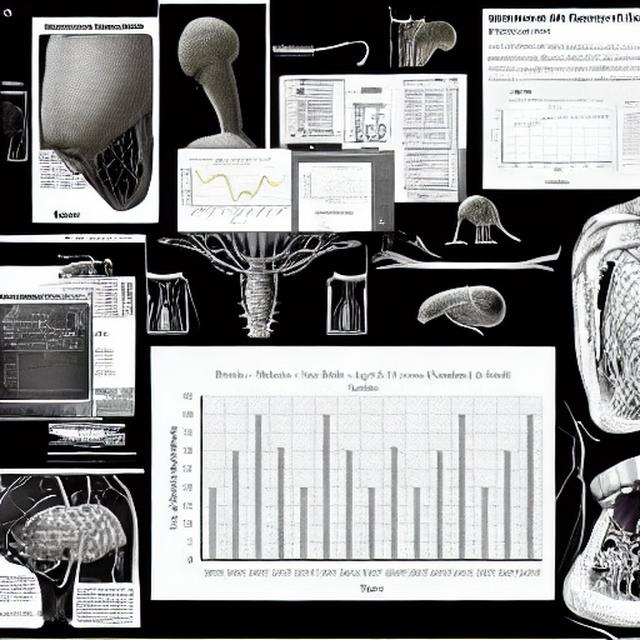Graph: (153, 358, 549, 596), (485, 96, 618, 175), (178, 156, 290, 226), (0, 348, 88, 400), (299, 164, 369, 205)
